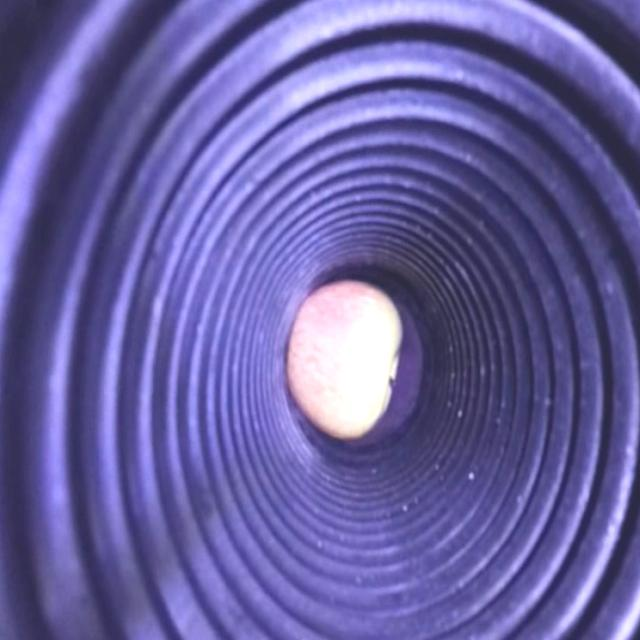obstacles: (287, 277, 403, 440)
